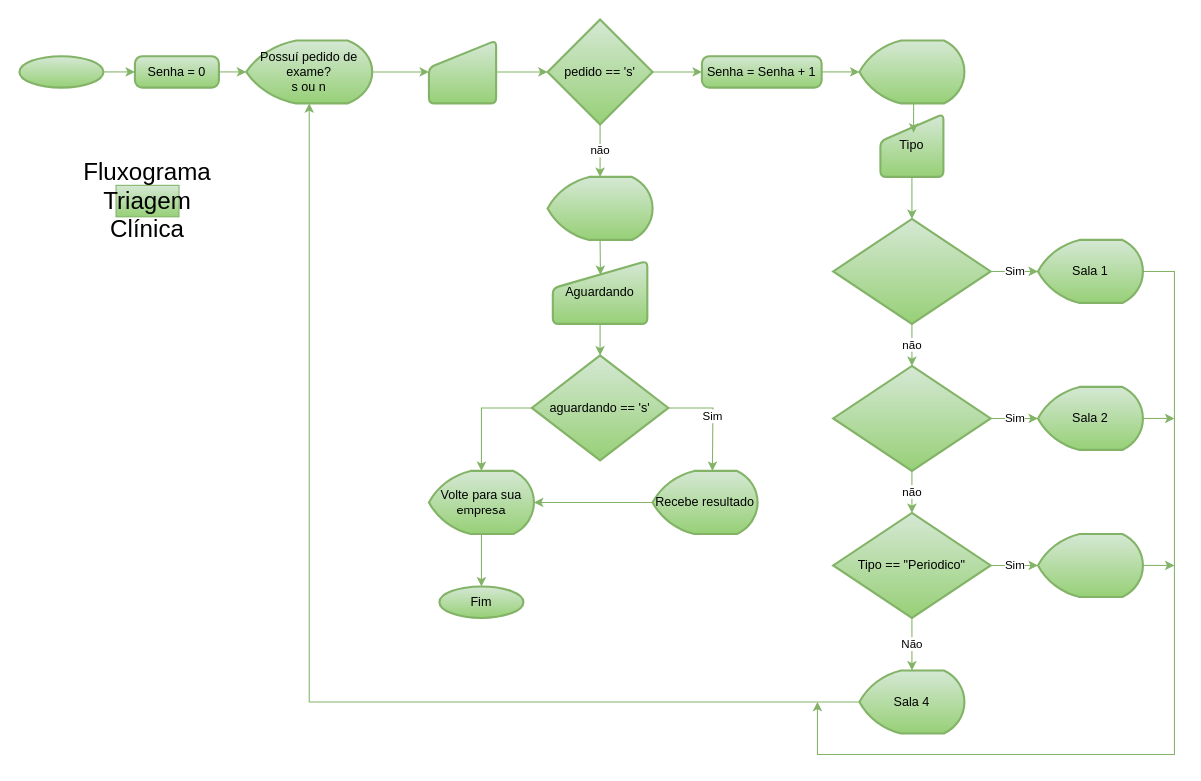
Some shapes in this 1201 by 781 pixel diagram are drawn without their labels. Each missing label, with the centre of its shape:
Está aguardando o resultado? 's' ou 'n': the point at 599,207
Inicío: the point at 61,71
Pedido: the point at 462,71
Qual o tipo de exame?: the point at 911,71
Sala 3: the point at 1089,564
Tipo == "Admissional": the point at 911,270
Tipo == demissionall": the point at 911,417
